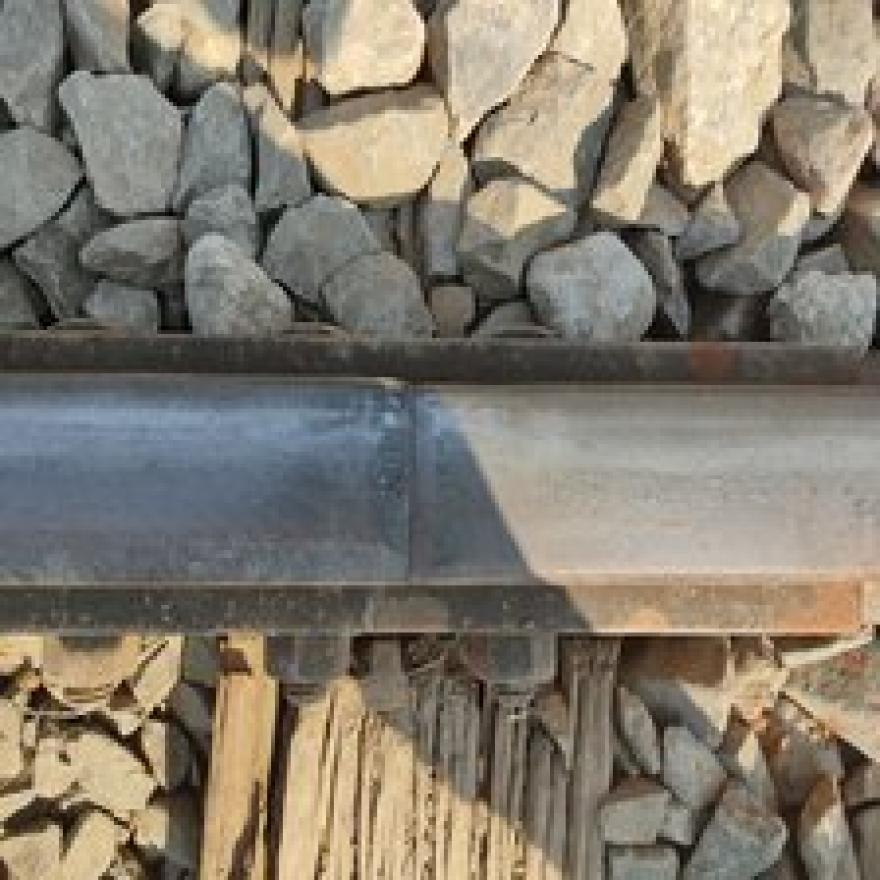railway-gap: (219, 307, 605, 662)
